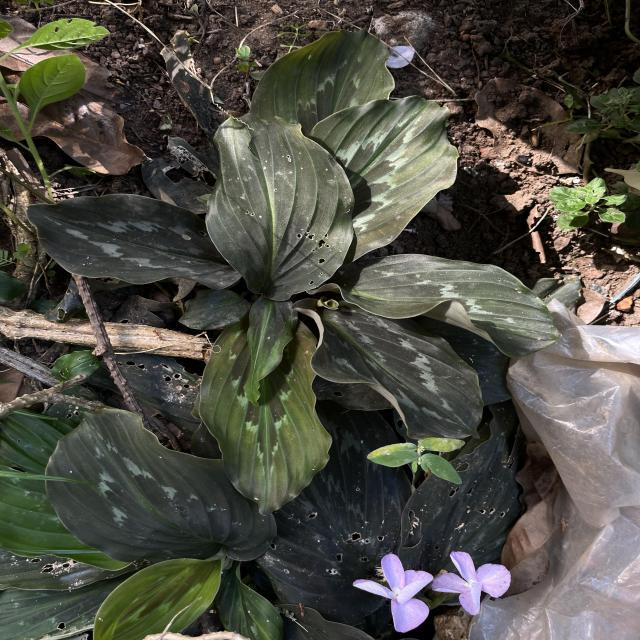Kaempferia galanga linn: (42, 407, 280, 565), (202, 110, 357, 302), (196, 305, 334, 518), (288, 294, 486, 442), (304, 252, 564, 360), (307, 94, 462, 268), (23, 192, 245, 293), (241, 294, 300, 408)
